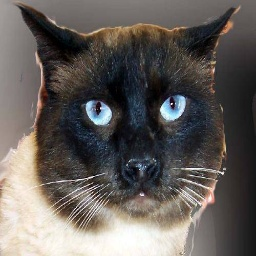cat: (2, 2, 242, 256)
